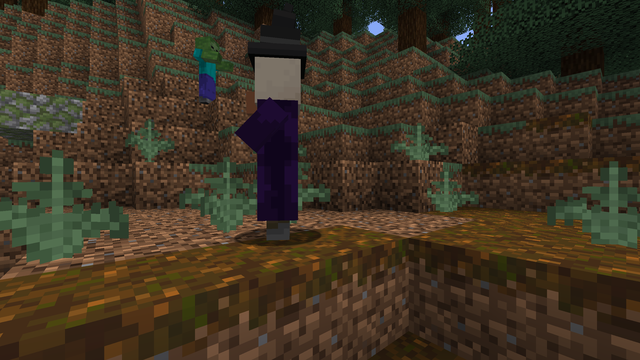sorcieres: (242, 40, 316, 244)
zombies: (194, 35, 219, 105)
